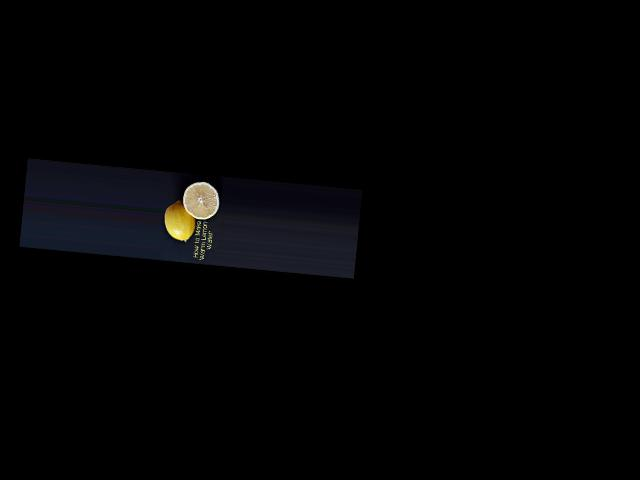lemon: (161, 200, 195, 244)
